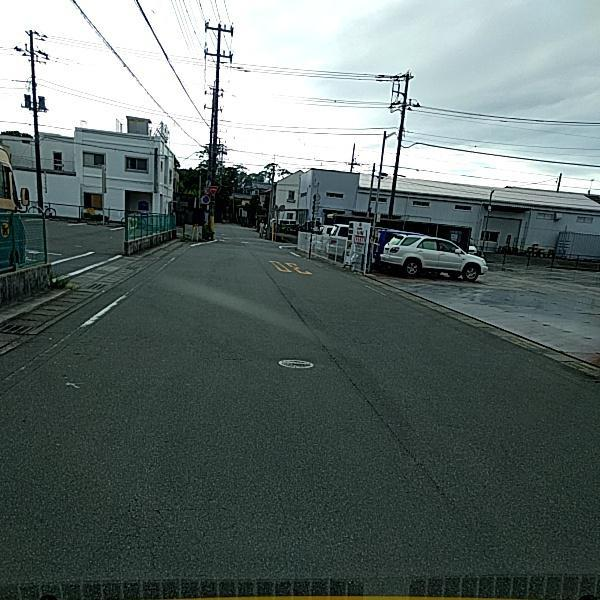D50: (275, 355, 314, 370)
